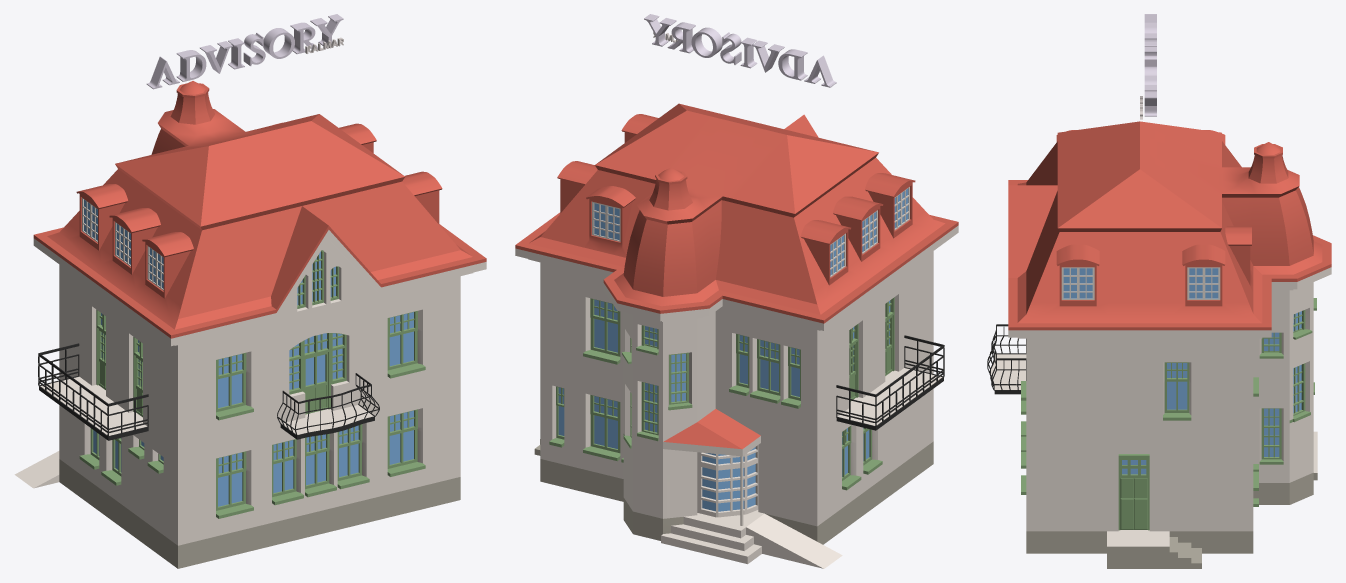
The picture shows the model from 3 angles, left to right: view 1: azimuth 30°, elevation 25°; view 2: azimuth 150°, elevation 25°; view 3: azimuth 270°, elevation 25°; orthographic projection. The views are drawn at different scales.
Parts seen in each view (by area): view 1: Vita_Villan_Mesh, ADV_Joined; view 2: Vita_Villan_Mesh, ADV_Joined; view 3: Vita_Villan_Mesh, ADV_Joined.
Part boxes in pixels (x1,y1,x2,y2): Vita_Villan_Mesh: (14, 81, 486, 568); ADV_Joined: (146, 14, 343, 89); Vita_Villan_Mesh: (515, 103, 958, 568); ADV_Joined: (644, 14, 836, 87); Vita_Villan_Mesh: (987, 121, 1331, 568); ADV_Joined: (1140, 14, 1156, 119).
Size of the model in its own units: 7.09 by 8.56 by 6.2.
